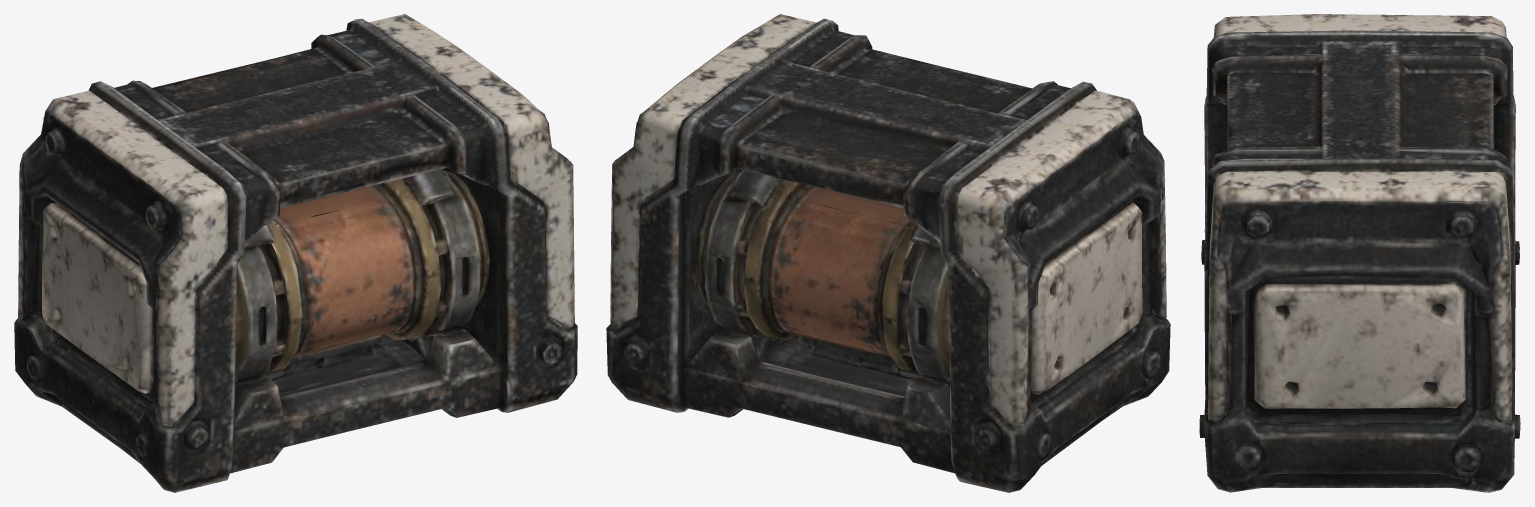
Rendered from salvage-core.glb.
3 renders of one model, left to right at view 1: azimuth 30°, elevation 25°; view 2: azimuth 150°, elevation 25°; view 3: azimuth 270°, elevation 25°, orthographic.
Visible parts, largest first — view 1: salvage-core; view 2: salvage-core; view 3: salvage-core.
Part boxes in pixels (box(x1,y1,x2,y2)): salvage-core: box(14, 14, 577, 492); salvage-core: box(606, 14, 1170, 492); salvage-core: box(1199, 14, 1520, 492).
Size of the model in its own units: 0.2223 by 0.15 by 0.1449.
1 material, 1 textured.
